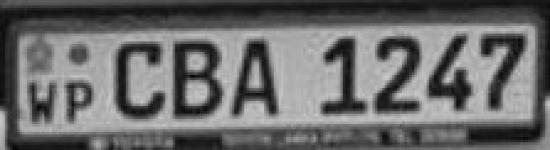1: (315, 31, 372, 119)
2: (372, 30, 428, 119)
4: (428, 27, 478, 118)
7: (475, 24, 530, 116)
A: (229, 34, 287, 121)
B: (168, 36, 226, 124)
C: (109, 37, 173, 122)
P: (64, 77, 100, 129)
W: (24, 74, 63, 129)
